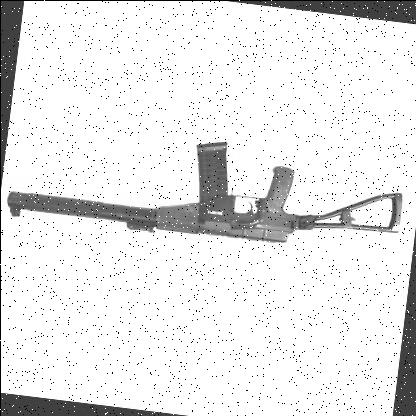rifle: (0, 100, 412, 280)
